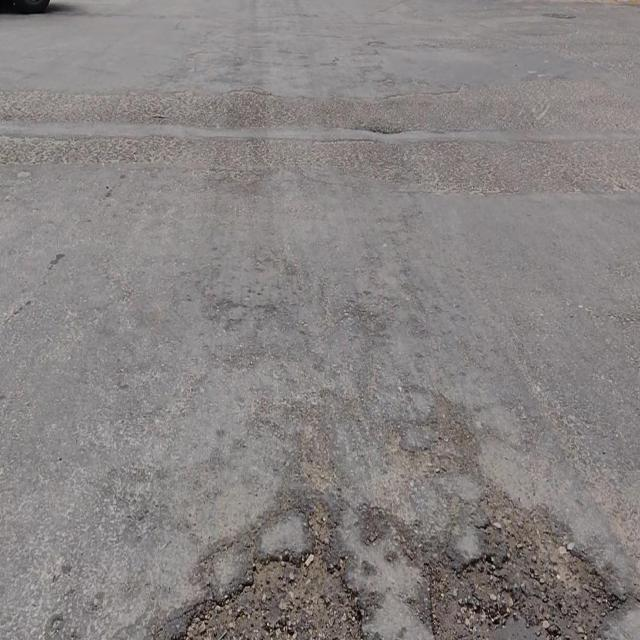Potholes: (427, 480, 631, 640), (156, 503, 372, 640)
